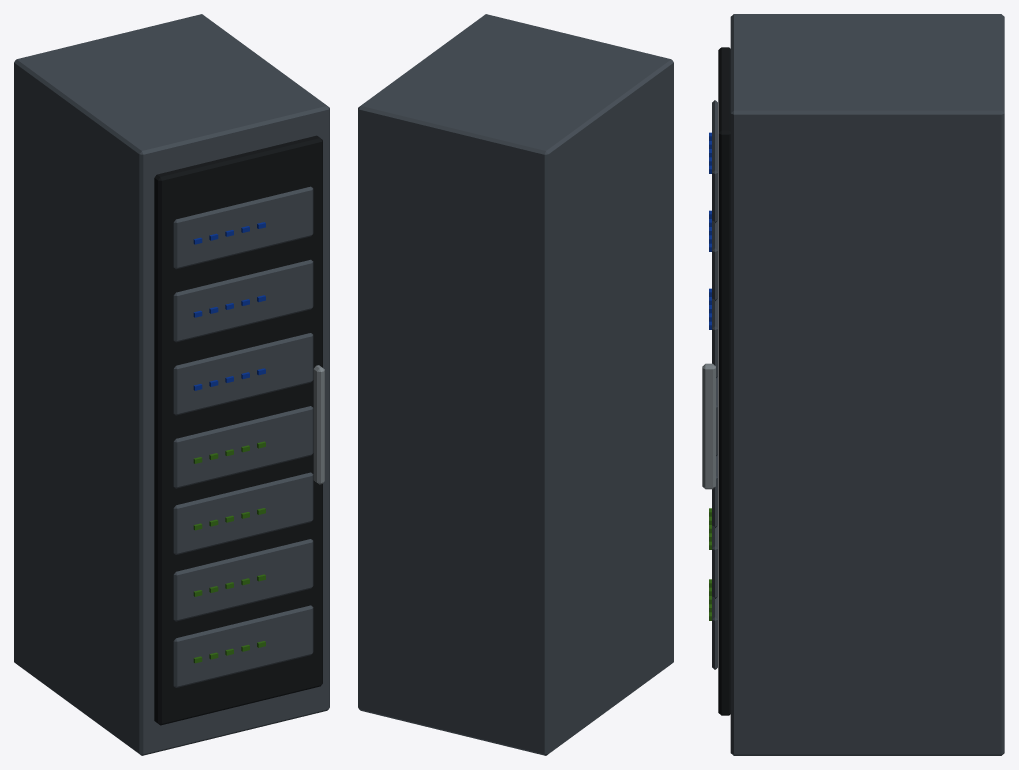
The model's file is ServerRack.fbx.
The picture shows the model from 3 angles, left to right: view 1: azimuth 30°, elevation 25°; view 2: azimuth 150°, elevation 25°; view 3: azimuth 270°, elevation 25°; orthographic projection. The views are drawn at different scales.
Parts seen in each view (by area): view 1: ServerRack; view 2: ServerRack; view 3: ServerRack.
Boxes of the visible parts, left/top/right/bottom form: ServerRack: left=14, top=14, right=329, bottom=755; ServerRack: left=358, top=14, right=673, bottom=755; ServerRack: left=702, top=14, right=1004, bottom=755.
Size of the model in its own units: 60 by 182 by 77.25.
Materials: 1 (1 with a texture image).
